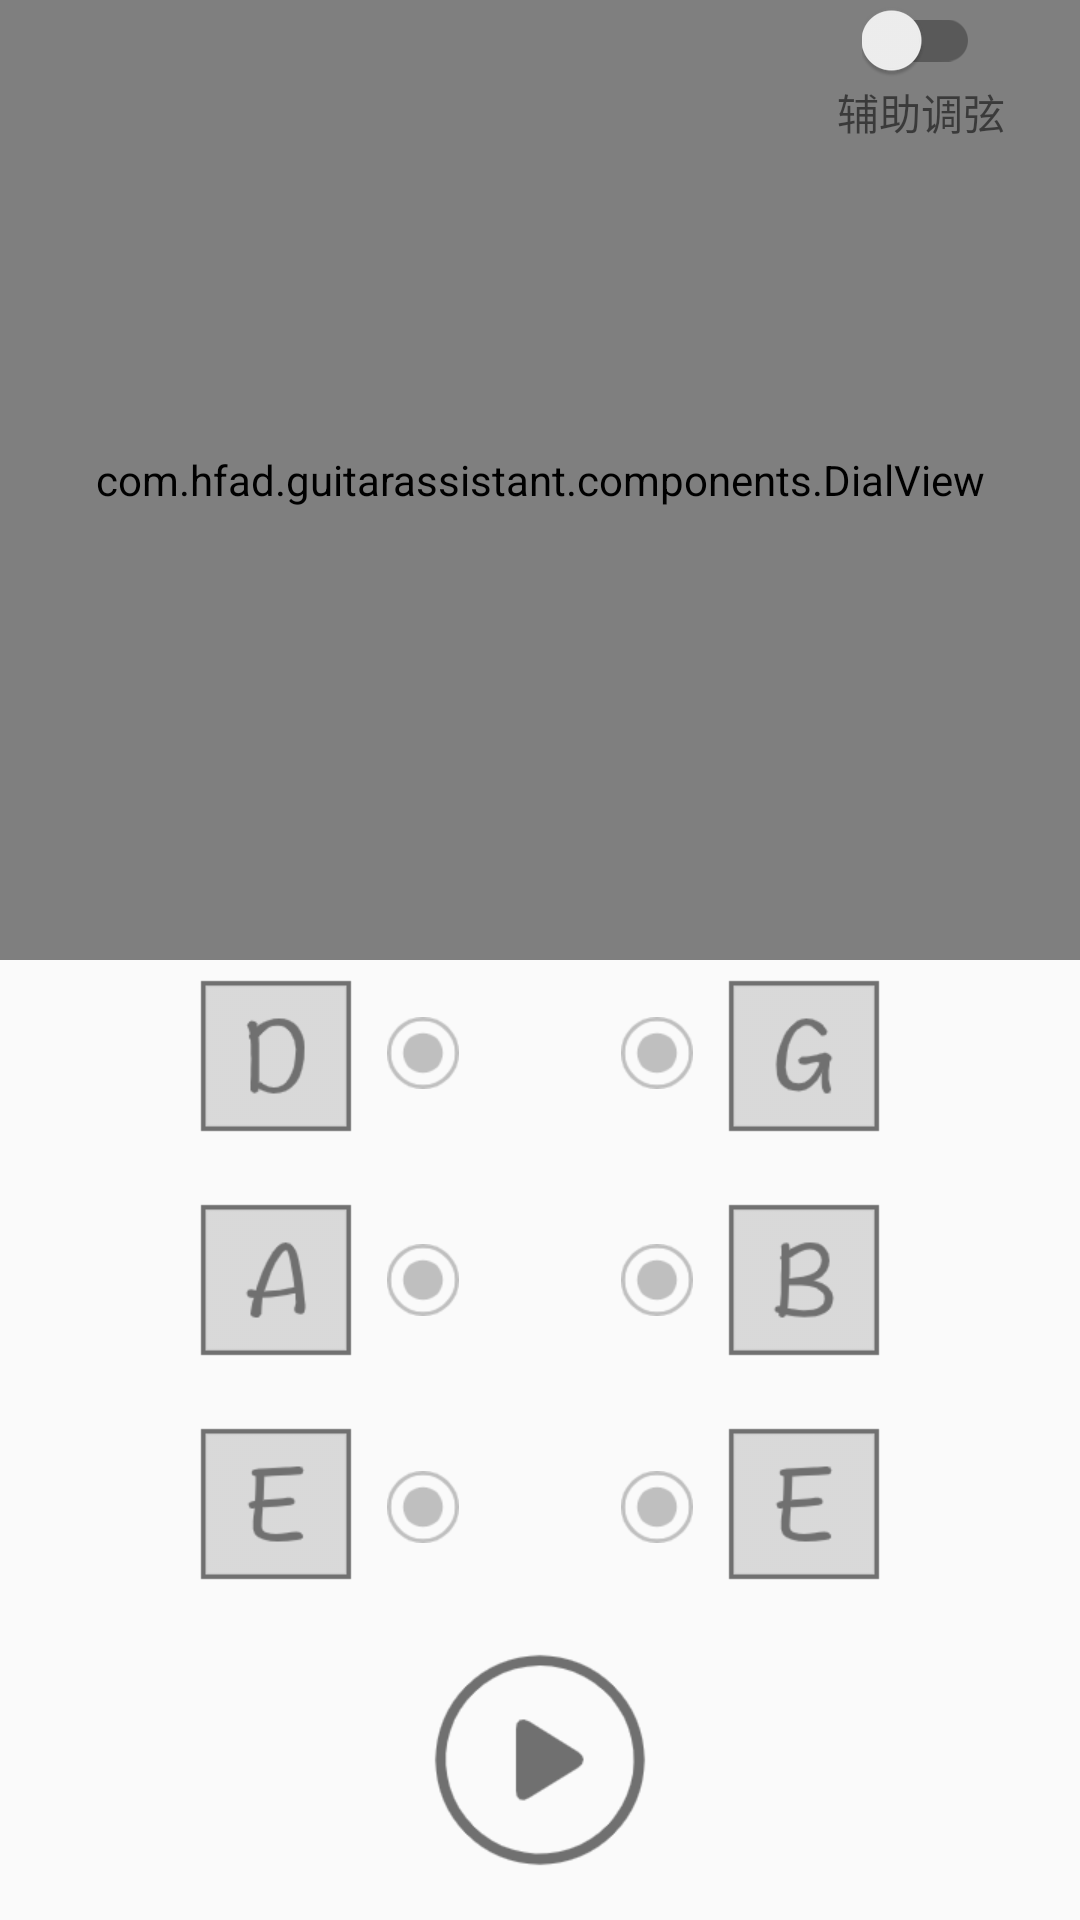

Named icons in this screenshot (1080px x 1920px) and their bounding boxes, (x1, y1, x2, y2):
round: (387, 1017, 459, 1089), (621, 1017, 693, 1089), (387, 1244, 459, 1316), (621, 1244, 693, 1316), (387, 1471, 459, 1543), (621, 1471, 693, 1543)
开始/暂停: (435, 1655, 645, 1865)
